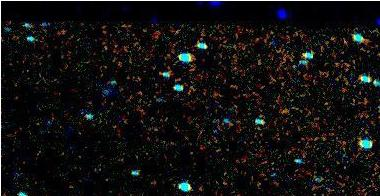star: (270, 96, 300, 126)
